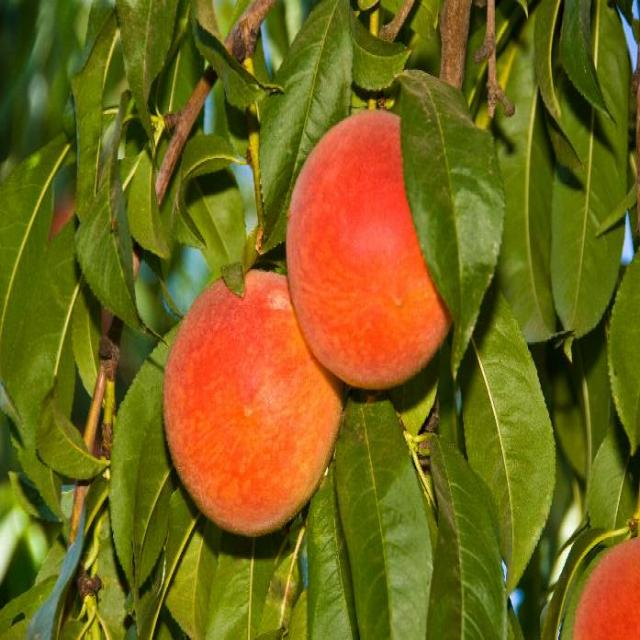Peach: (67, 0, 640, 640)
